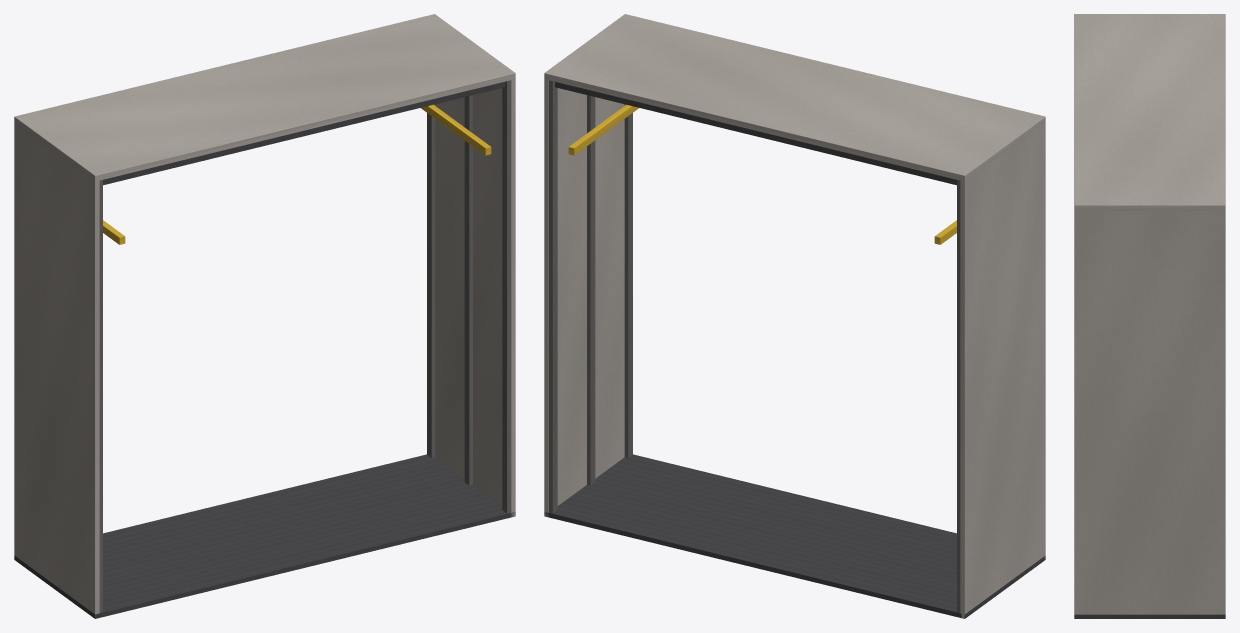
Rendered from assembly_hall_bay.glb.
3 views of the same model, side by side, from view 1: azimuth 30°, elevation 25°; view 2: azimuth 150°, elevation 25°; view 3: azimuth 270°, elevation 25° (orthographic). The views are drawn at different scales.
Parts seen in each view (by area): view 1: side_wall.004, roof, floor.005, side_wall.005, structural_pier.003, structural_pier.004, structural_pier.005, roof_crossbeam, structural_pier, crane_rail.001; view 2: side_wall.004, roof, floor.005, side_wall.005, structural_pier.005, structural_pier.004, structural_pier.003, roof_crossbeam.002, structural_pier.002, crane_rail.001; view 3: side_wall.005, roof, floor.005.
Boxes of the visible parts, x1=… form: side_wall.004: x1=14, y1=123, x2=99, y2=616; roof: x1=14, y1=14, x2=515, y2=181; floor.005: x1=14, y1=454, x2=515, y2=618; side_wall.005: x1=435, y1=76, x2=515, y2=516; structural_pier.003: x1=502, y1=80, x2=510, y2=513; structural_pier.004: x1=464, y1=95, x2=472, y2=485; structural_pier.005: x1=427, y1=104, x2=435, y2=457; roof_crossbeam: x1=103, y1=82, x2=504, y2=185; structural_pier: x1=99, y1=180, x2=102, y2=612; crane_rail.001: x1=421, y1=104, x2=491, y2=155; side_wall.004: x1=960, y1=123, x2=1045, y2=618; roof: x1=544, y1=14, x2=1045, y2=181; floor.005: x1=544, y1=454, x2=1045, y2=618; side_wall.005: x1=544, y1=76, x2=624, y2=516; structural_pier.005: x1=549, y1=80, x2=557, y2=513; structural_pier.004: x1=587, y1=95, x2=595, y2=485; structural_pier.003: x1=624, y1=104, x2=632, y2=457; roof_crossbeam.002: x1=555, y1=82, x2=956, y2=185; structural_pier.002: x1=957, y1=180, x2=960, y2=612; crane_rail.001: x1=568, y1=104, x2=638, y2=155; side_wall.005: x1=1074, y1=208, x2=1225, y2=614; roof: x1=1074, y1=14, x2=1225, y2=210; floor.005: x1=1074, y1=614, x2=1225, y2=618.
Size of the model in its own units: 18 by 18.12 by 6.
5 materials, 4 textured.
